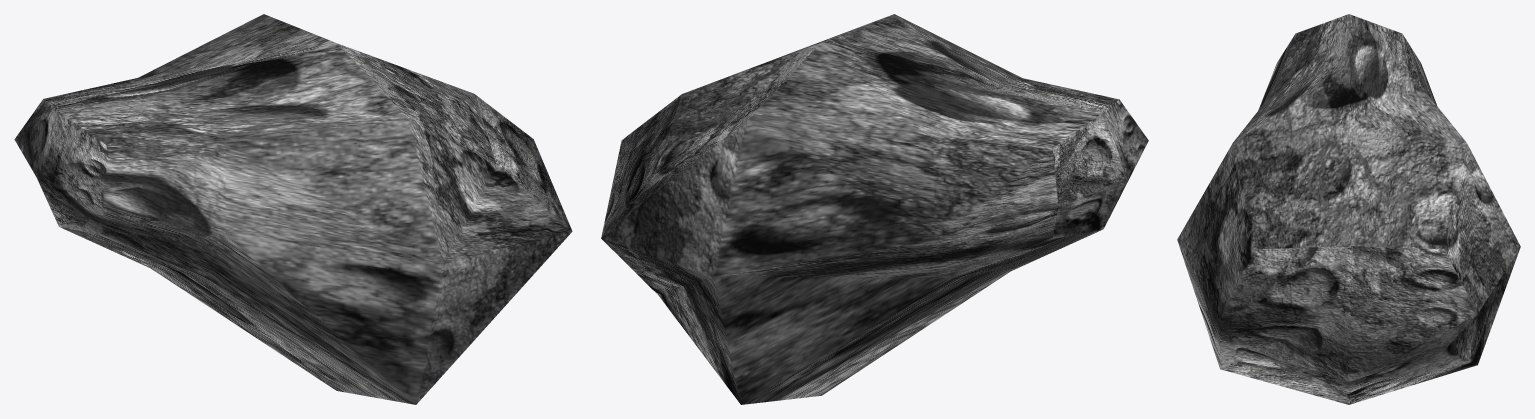
The model's file is Asteroid2.fbx.
3 views of the same model, side by side, from view 1: azimuth 30°, elevation 25°; view 2: azimuth 150°, elevation 25°; view 3: azimuth 270°, elevation 25° (orthographic). The views are drawn at different scales.
Visible parts, largest first — view 1: Asteroid2; view 2: Asteroid2; view 3: Asteroid2.
Boxes of the visible parts, left/top/right/bottom form: Asteroid2: left=14, top=14, right=572, bottom=404; Asteroid2: left=601, top=14, right=1148, bottom=404; Asteroid2: left=1177, top=14, right=1520, bottom=404.
Bounding box in the file's own units: 11.4 × 7.62 × 8.42.
Materials: 1 (1 with a texture image).
